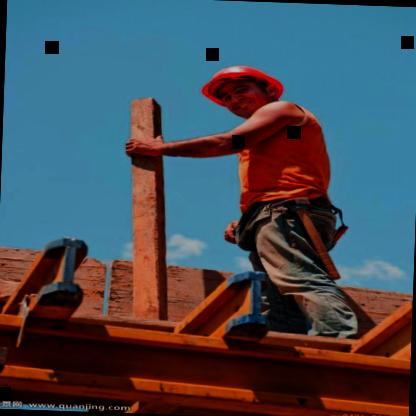helmet: (187, 55, 300, 125)
